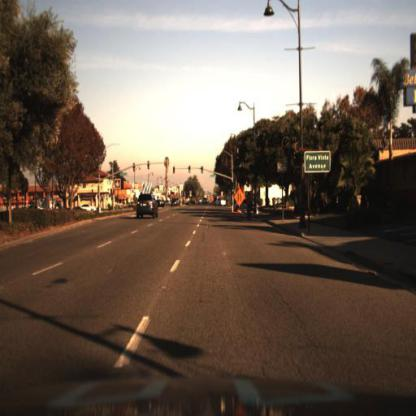biker: (244, 189, 254, 222), (244, 191, 255, 220)
car: (130, 190, 164, 224), (76, 202, 99, 218), (213, 193, 229, 209), (25, 202, 44, 214)
trafficLight-Green: (185, 164, 192, 178), (200, 164, 207, 176), (187, 165, 193, 178), (201, 164, 206, 177)
